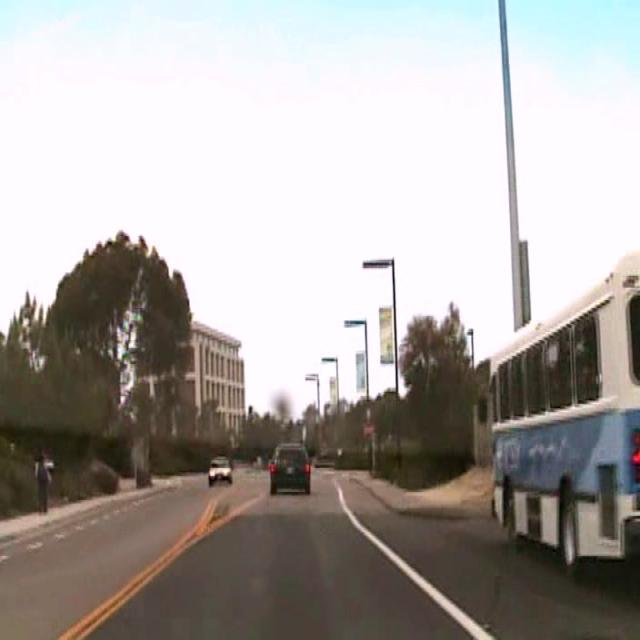stop: (362, 422, 373, 438)
